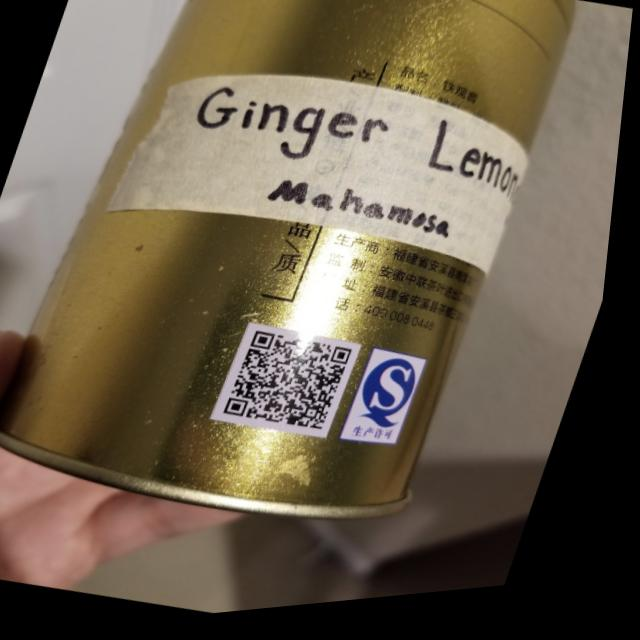QR_CODE: (214, 313, 381, 467)
